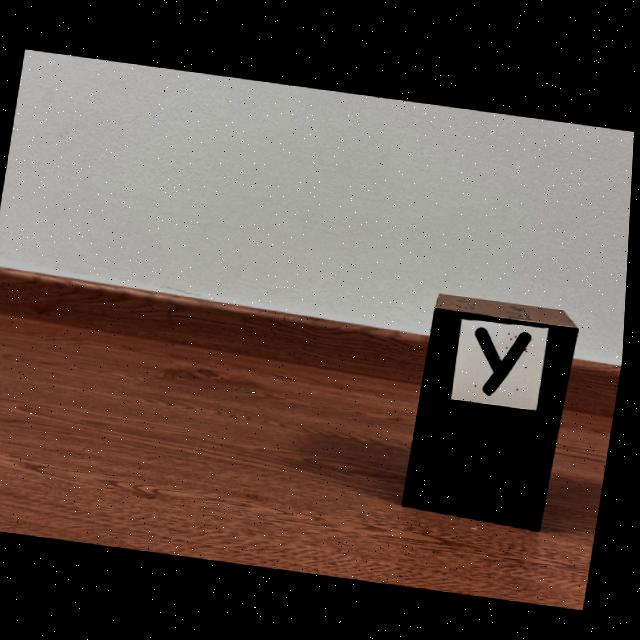Y: (479, 325, 535, 391)
